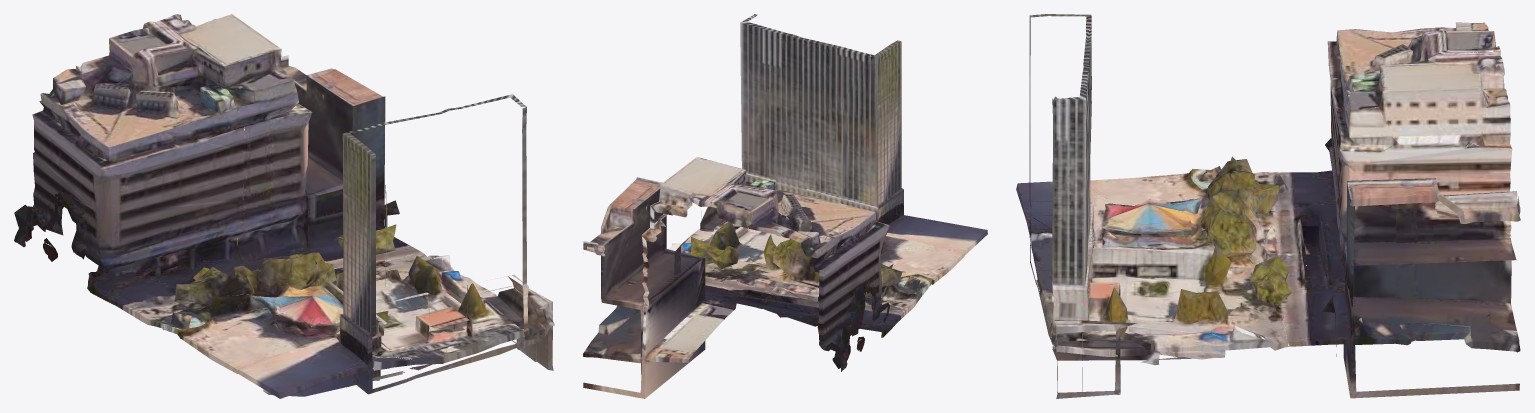
The picture shows the model from 3 angles, left to right: view 1: azimuth 30°, elevation 25°; view 2: azimuth 150°, elevation 25°; view 3: azimuth 270°, elevation 25°; orthographic projection. The views are drawn at different scales.
Parts seen in each view (by area): view 1: Mesh_0; view 2: Mesh_0; view 3: Mesh_0.
Part boxes in pixels (x1=…): Mesh_0: x1=14, y1=14, x2=554, y2=398; Mesh_0: x1=583, y1=14, x2=987, y2=398; Mesh_0: x1=1016, y1=14, x2=1520, y2=398.
Size of the model in its own units: 66.91 by 54.22 by 82.62.
1 material, 1 textured.
